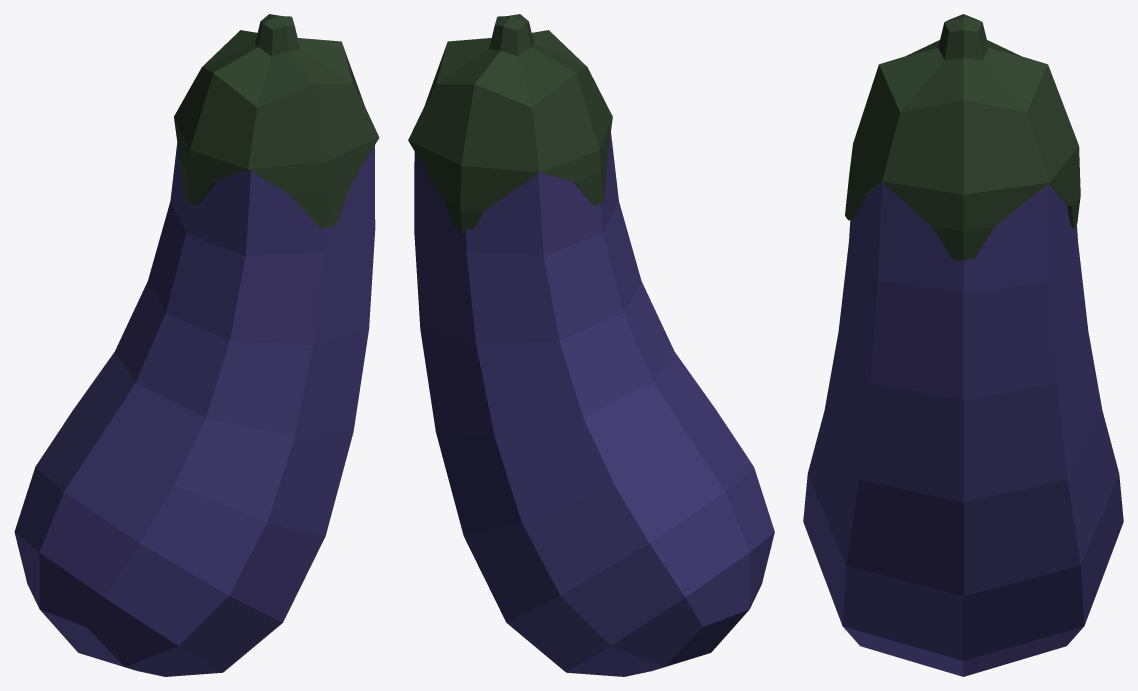
Rendered from Eggplant.obj.
3 views of the same model, side by side, from view 1: azimuth 30°, elevation 25°; view 2: azimuth 150°, elevation 25°; view 3: azimuth 270°, elevation 25° (orthographic). The views are drawn at different scales.
Parts seen in each view (by area): view 1: mesh_0, mesh_1; view 2: mesh_0, mesh_1; view 3: mesh_0, mesh_1.
Part boxes in pixels (x1=…): mesh_0: x1=14, y1=143, x2=375, y2=676; mesh_1: x1=174, y1=14, x2=379, y2=228; mesh_0: x1=414, y1=132, x2=774, y2=676; mesh_1: x1=408, y1=14, x2=612, y2=233; mesh_0: x1=803, y1=182, x2=1123, y2=676; mesh_1: x1=845, y1=14, x2=1080, y2=260.
Size of the model in its own units: 0.9622 by 1.75 by 0.718.
